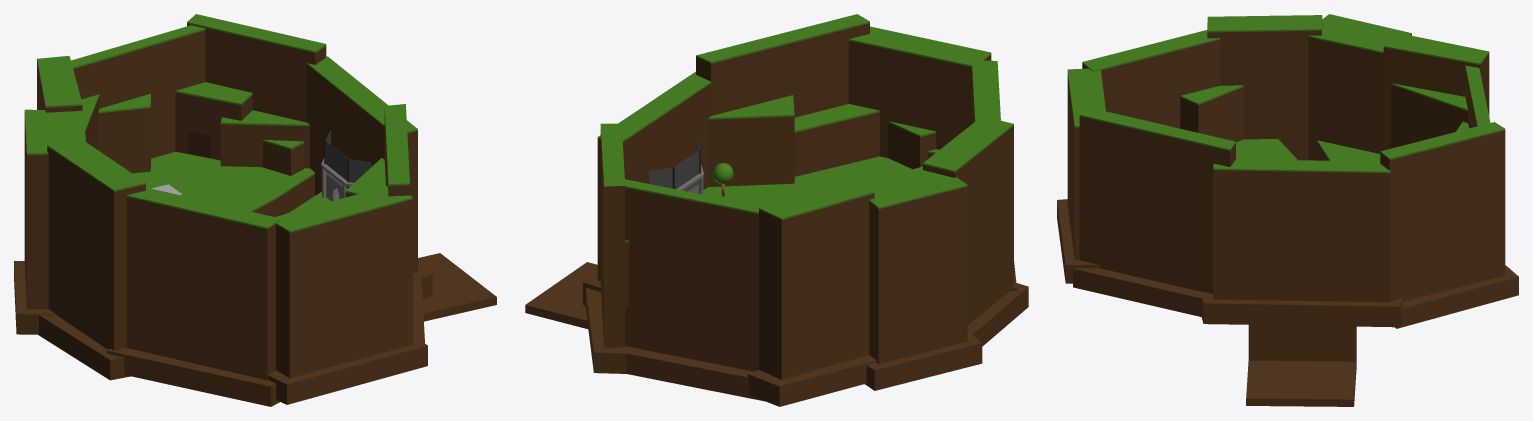
Rendered from LOCATION-RAZDELENOYE.fbx.
The picture shows the model from 3 angles, left to right: view 1: azimuth 30°, elevation 25°; view 2: azimuth 150°, elevation 25°; view 3: azimuth 270°, elevation 25°; orthographic projection. The views are drawn at different scales.
Parts seen in each view (by area): view 1: location.007, location.010, location.006, location.003, location.002, location.001, location.005, location, location.016, location.017, location.019, platforma (+7 smaller); view 2: location.003, location.004, location.005, location.006, location.010, location.014, location.001, location.002, location.015, location.013, location, platforma (+3 smaller); view 3: location.001, location.014, location.002, location.006, location.005, platforma, location.007, location.004, location.010, location.020, location.008, location (+1 smaller).
Part boxes in pixels (x1=…): location.007: x1=107, y1=187, x2=281, y2=406; location.010: x1=268, y1=186, x2=427, y2=404; location.006: x1=38, y1=137, x2=145, y2=380; location.003: x1=71, y1=25, x2=205, y2=158; location.002: x1=187, y1=14, x2=326, y2=122; location.001: x1=307, y1=56, x2=432, y2=299; location.005: x1=14, y1=109, x2=86, y2=334; location: x1=132, y1=151, x2=331, y2=216; location.016: x1=175, y1=82, x2=252, y2=160; location.017: x1=220, y1=110, x2=309, y2=168; location.019: x1=98, y1=93, x2=150, y2=173; platforma: x1=418, y1=253, x2=496, y2=321; location.003: x1=625, y1=179, x2=764, y2=401; location.004: x1=747, y1=179, x2=876, y2=406; location.005: x1=860, y1=166, x2=982, y2=390; location.006: x1=923, y1=116, x2=1028, y2=346; location.010: x1=848, y1=26, x2=991, y2=157; location.014: x1=696, y1=14, x2=869, y2=117; location.001: x1=583, y1=71, x2=711, y2=305; location.002: x1=585, y1=123, x2=626, y2=373; location.015: x1=708, y1=95, x2=794, y2=186; location.013: x1=794, y1=104, x2=879, y2=176; location: x1=703, y1=156, x2=911, y2=206; platforma: x1=525, y1=262, x2=597, y2=328; location.001: x1=1200, y1=159, x2=1403, y2=327; location.014: x1=1073, y1=107, x2=1235, y2=316; location.002: x1=1380, y1=122, x2=1518, y2=328; location.006: x1=1207, y1=15, x2=1322, y2=160; location.005: x1=1308, y1=14, x2=1411, y2=160; platforma: x1=1246, y1=325, x2=1356, y2=406; location.007: x1=1082, y1=30, x2=1219, y2=128; location.004: x1=1383, y1=33, x2=1489, y2=150; location.010: x1=1057, y1=68, x2=1105, y2=283; location.020: x1=1390, y1=83, x2=1467, y2=148; location.008: x1=1180, y1=85, x2=1243, y2=142; location: x1=1236, y1=139, x2=1380, y2=161.
Bounding box in the file's own units: 1140 × 575 × 1136.
